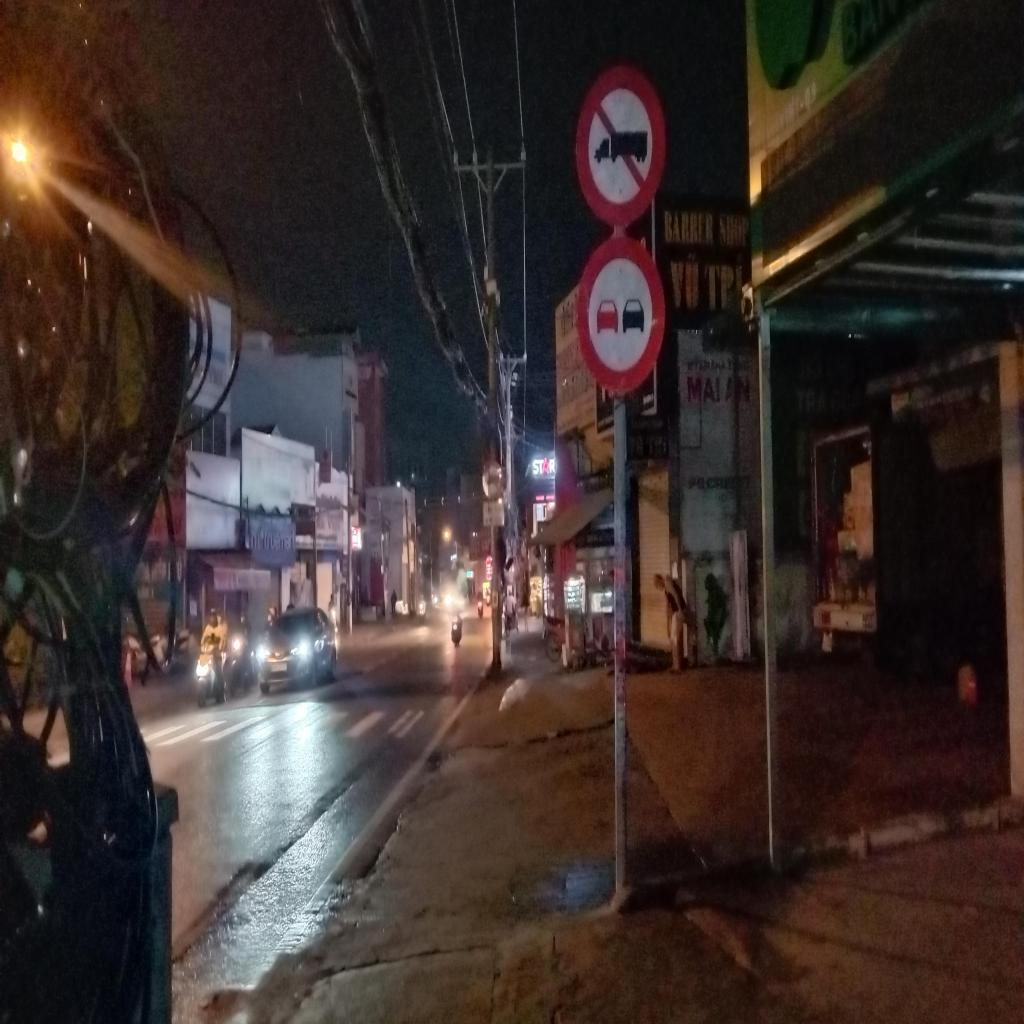cam_o_to_tai: (483, 460, 503, 499)
cam_o_to_tai_trong_luong_qua_10t: (576, 68, 668, 225)
cam_vuot: (575, 238, 665, 397)
